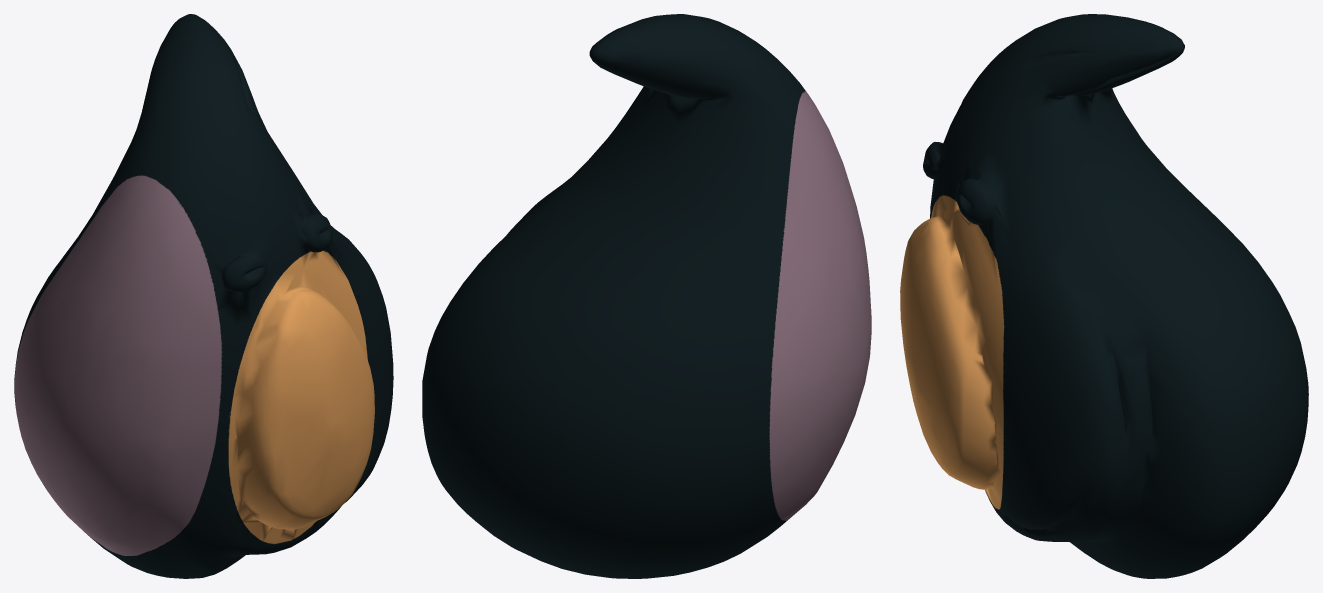
File: blot-lod.glb
3 renders of one model, left to right at view 1: azimuth 30°, elevation 25°; view 2: azimuth 150°, elevation 25°; view 3: azimuth 270°, elevation 25°, orthographic. The views are drawn at different scales.
Visible parts, largest first — view 1: ink blot tripo lod; view 2: ink blot tripo lod; view 3: ink blot tripo lod.
Boxes of the visible parts, left/top/right/bottom form: ink blot tripo lod: left=14, top=14, right=393, bottom=578; ink blot tripo lod: left=422, top=14, right=871, bottom=578; ink blot tripo lod: left=900, top=14, right=1308, bottom=578.
Bounding box in the file's own units: 0.725 × 1.05 × 0.7272.
1 material, 1 textured.
